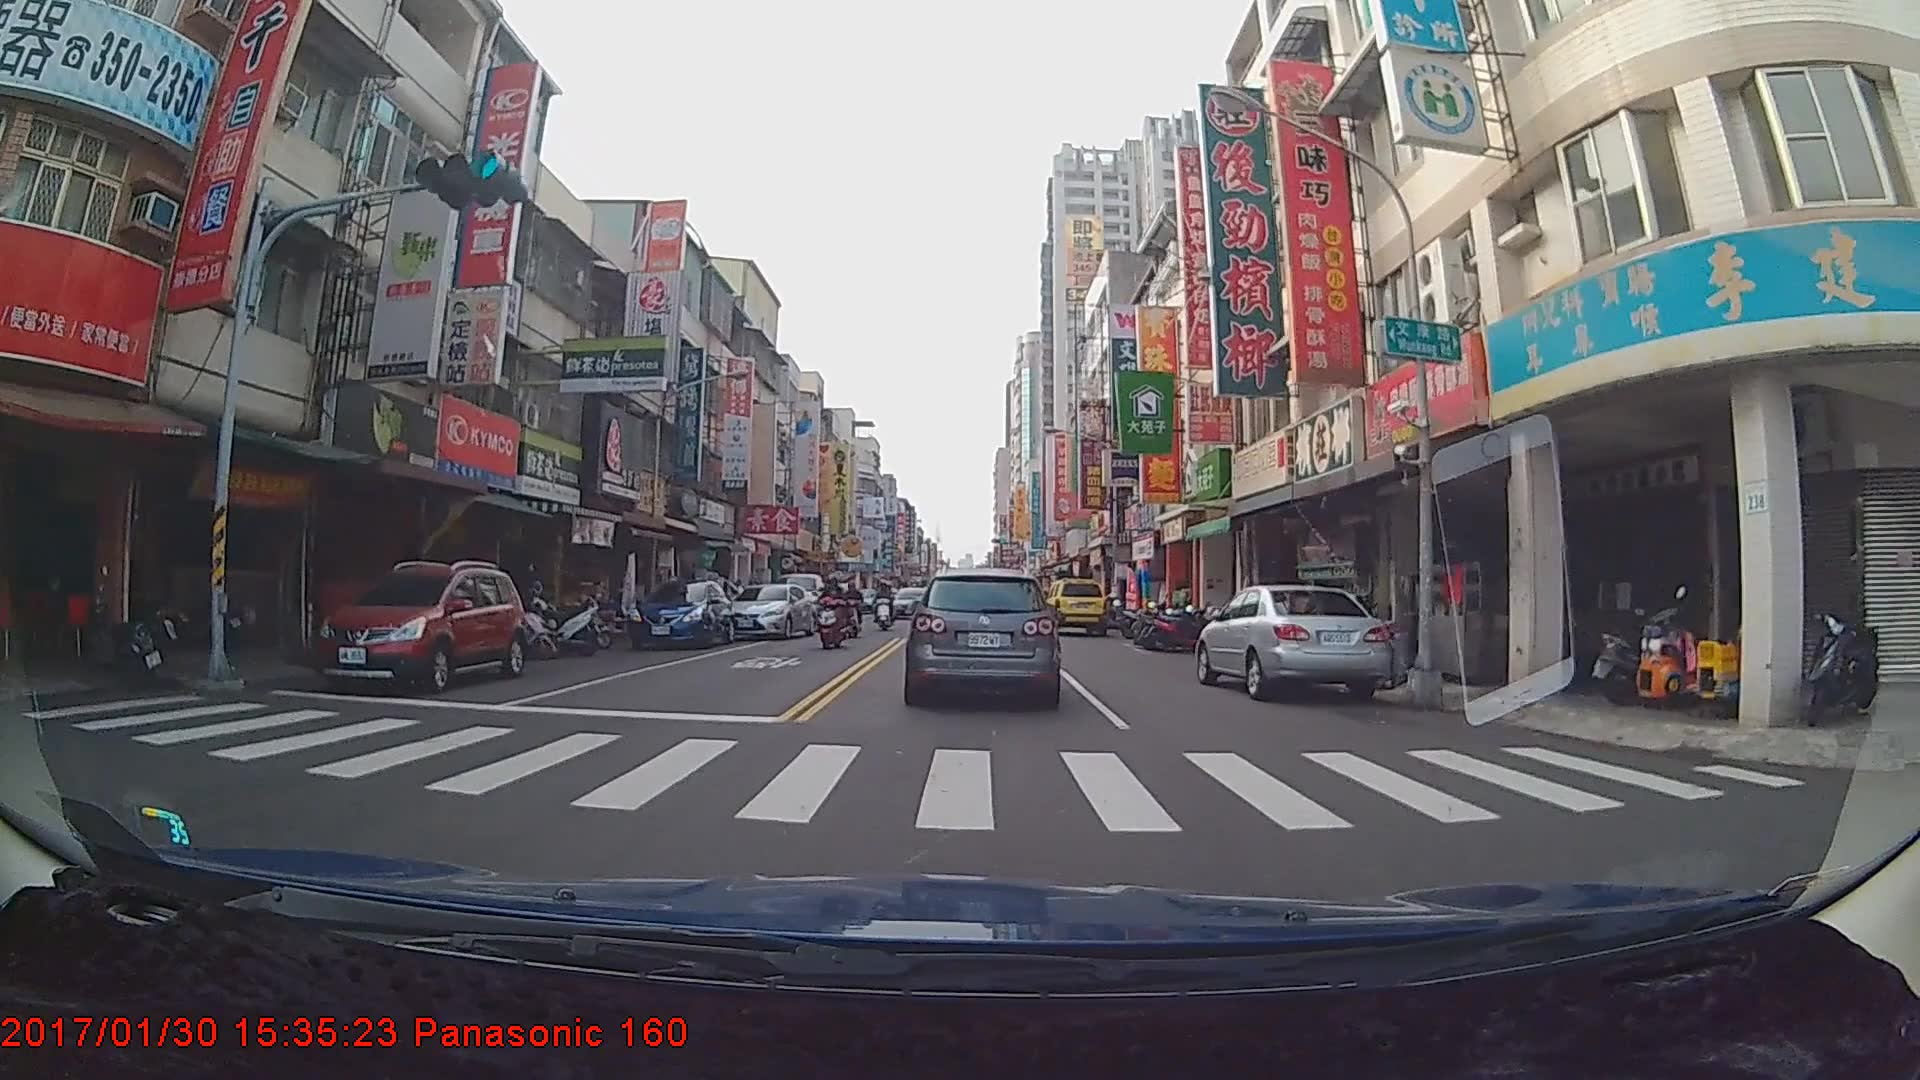rider: (816, 569, 853, 651), (877, 580, 898, 634)
vehicle: (309, 556, 524, 692), (1196, 585, 1391, 700), (907, 566, 1058, 707), (621, 579, 735, 650), (723, 582, 816, 637), (1043, 578, 1108, 633), (772, 568, 823, 620), (888, 585, 931, 619)
